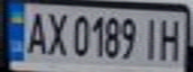0: (69, 11, 90, 57)
1: (87, 12, 106, 57)
8: (103, 12, 124, 60)
9: (118, 14, 142, 61)
A: (21, 8, 51, 56)
H: (154, 15, 187, 61)
I: (139, 15, 163, 61)
X: (42, 8, 69, 57)
